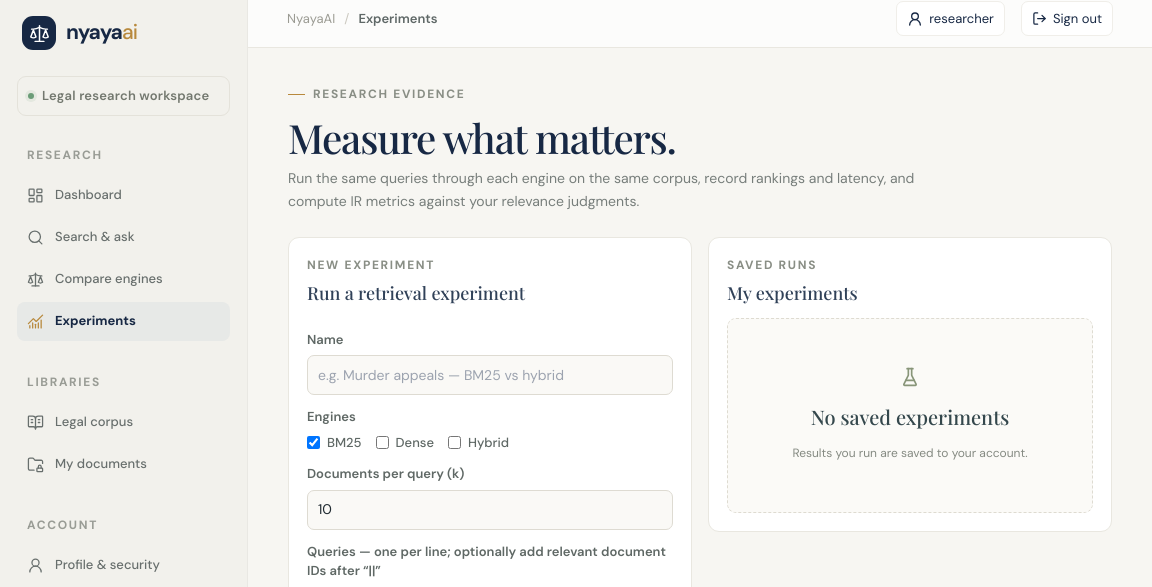
experiments › submits a new experiment to the API
Type "Trial" into the field labelled "Name" at (490, 375), box 307,355 -> 673,395
(page scrolled)
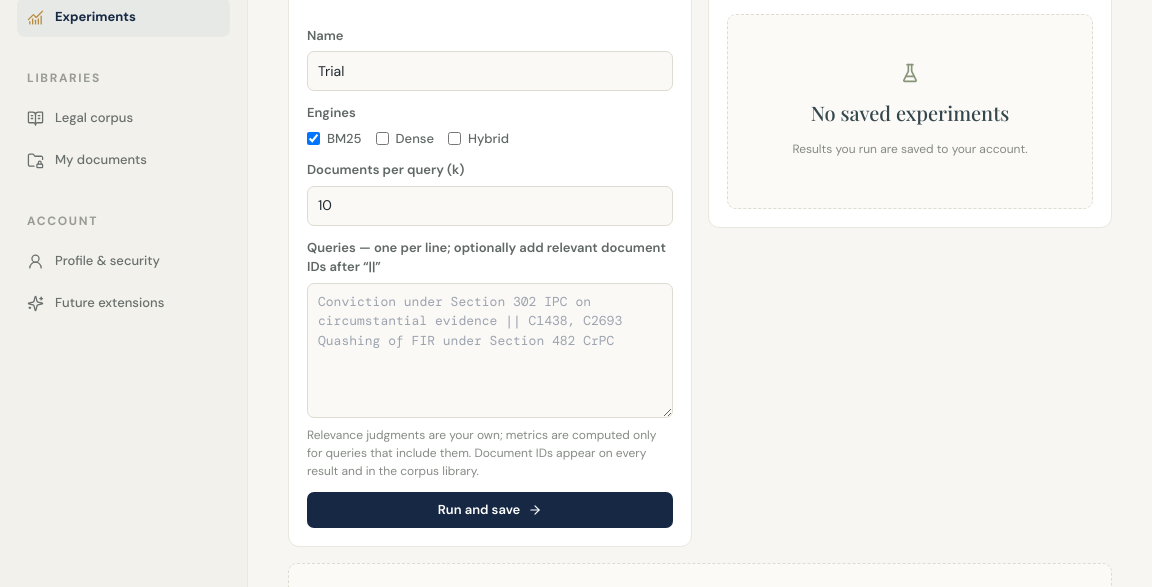
Replace the text in the text box labelled "Queries" with "murder appeal || C1" at (490, 350), box 307,282 -> 673,418
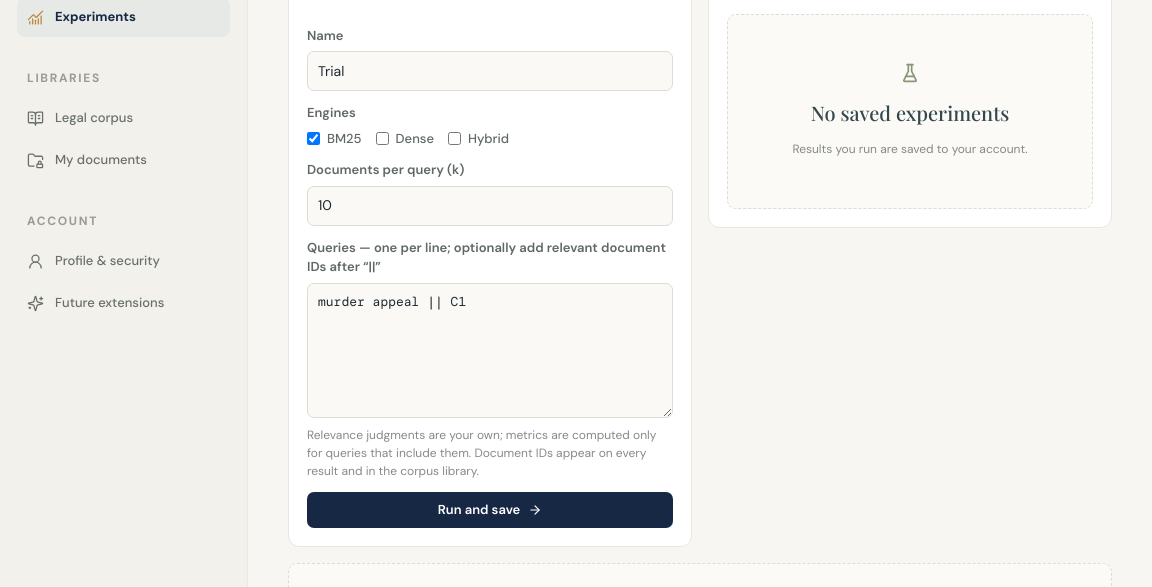
Click the button "Run and save" at (490, 510), box 307,492 -> 673,528
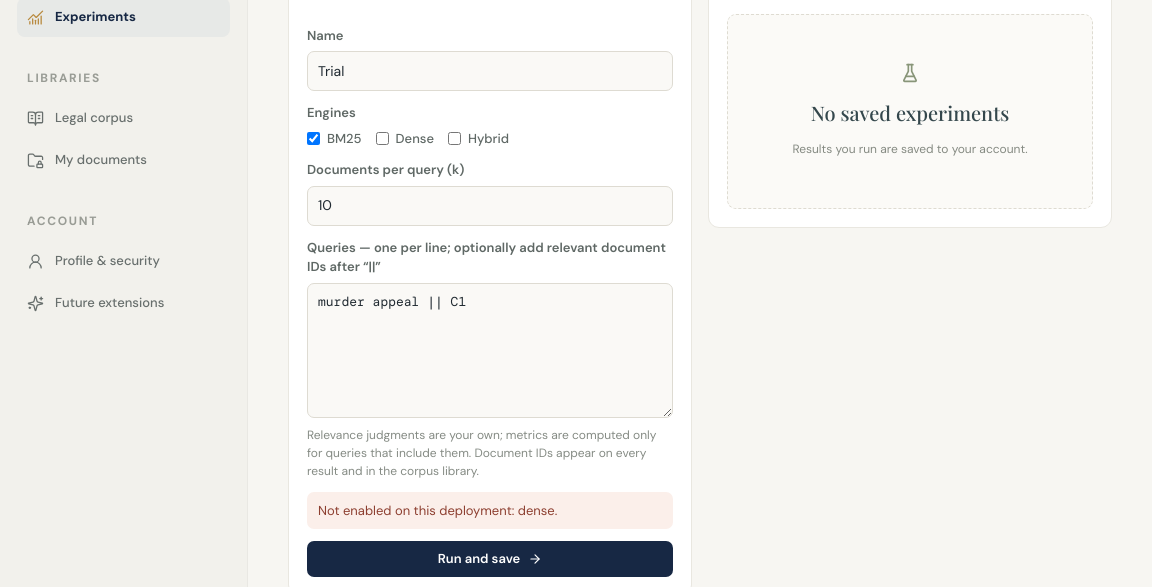
Expected: the text "Not enabled on this deployment: dense." is shown, 307,492 -> 673,529
